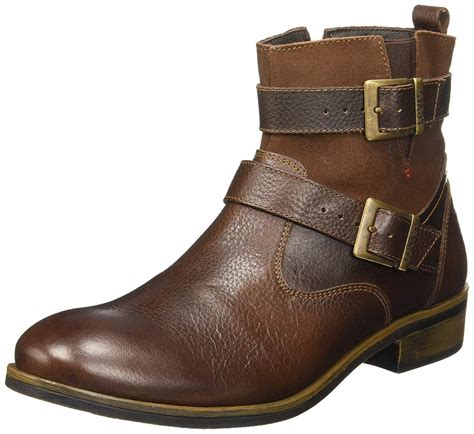cuero: (13, 5, 468, 406)
